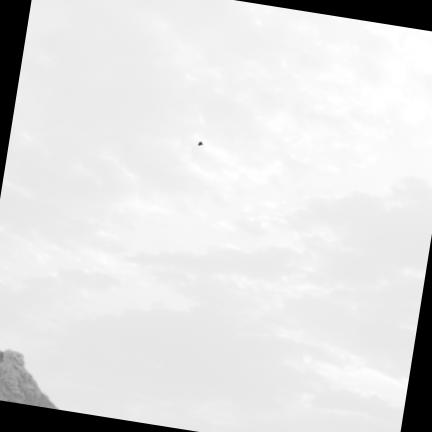Shahed: (198, 142, 203, 145)
